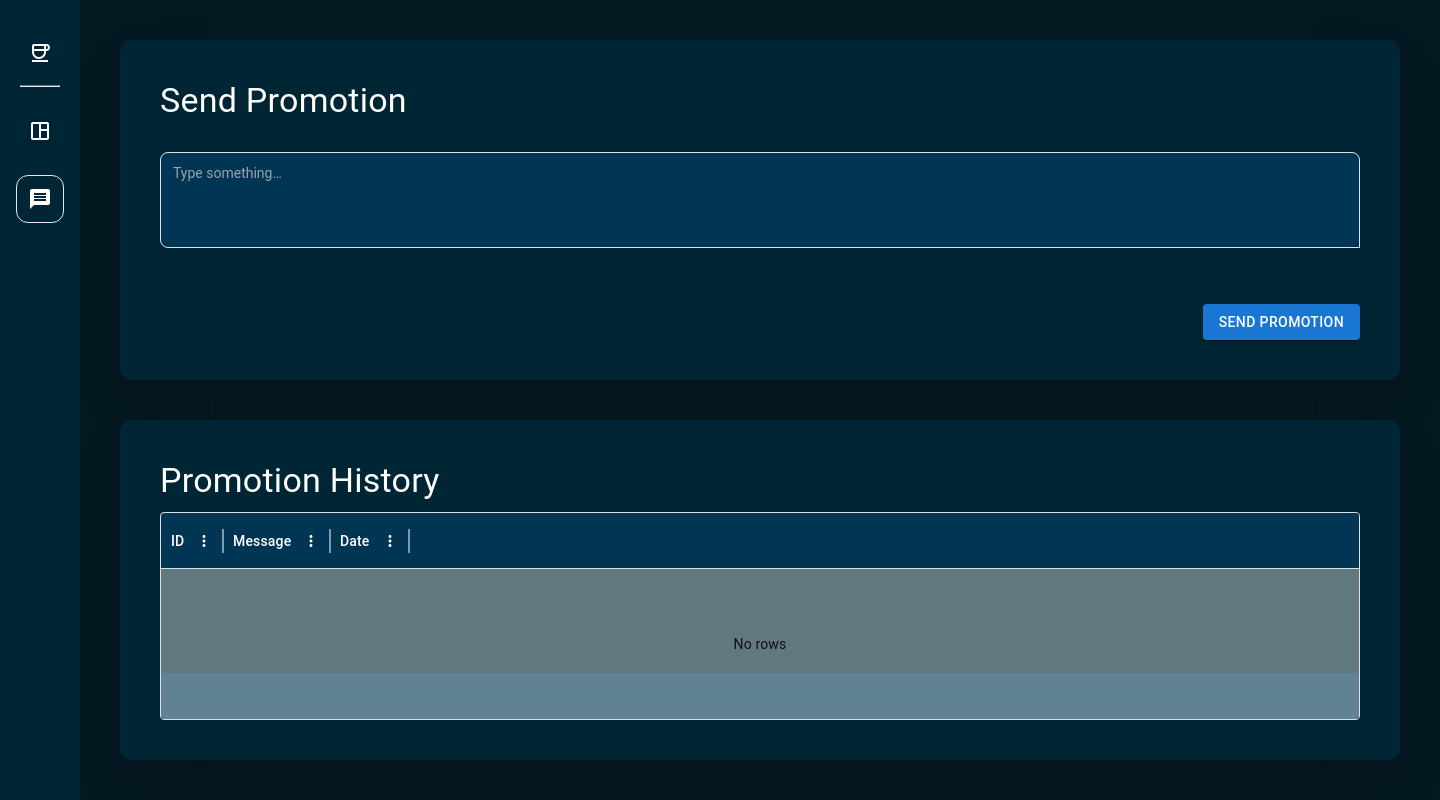
it: Promotion › should add a promotion to the history
Type "Test promotion message" into the text box named "promotion input". click: (760, 200)
box: [160, 152, 1360, 248]
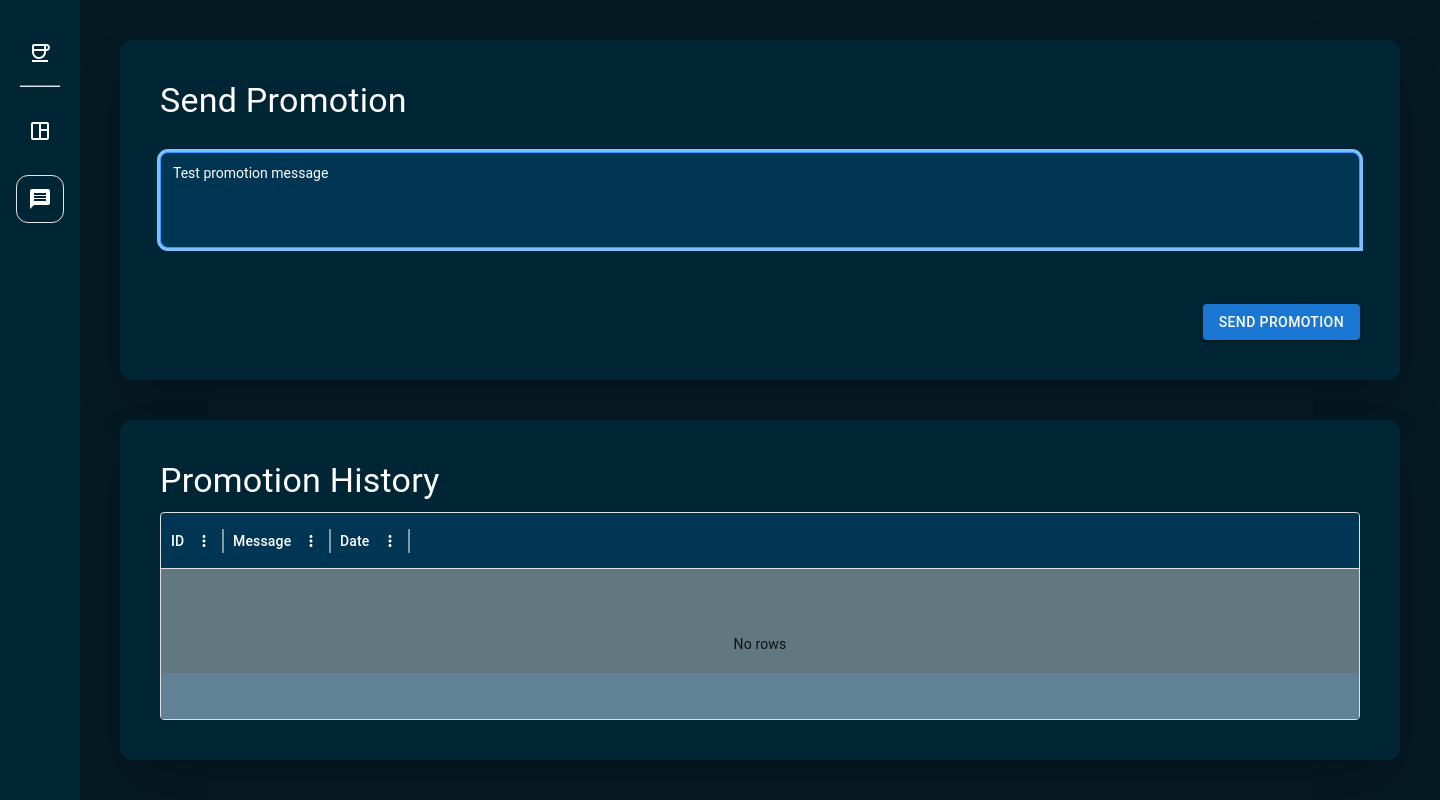
Click the button "Send Promotion". click: (1282, 323)
box: [1203, 304, 1360, 341]
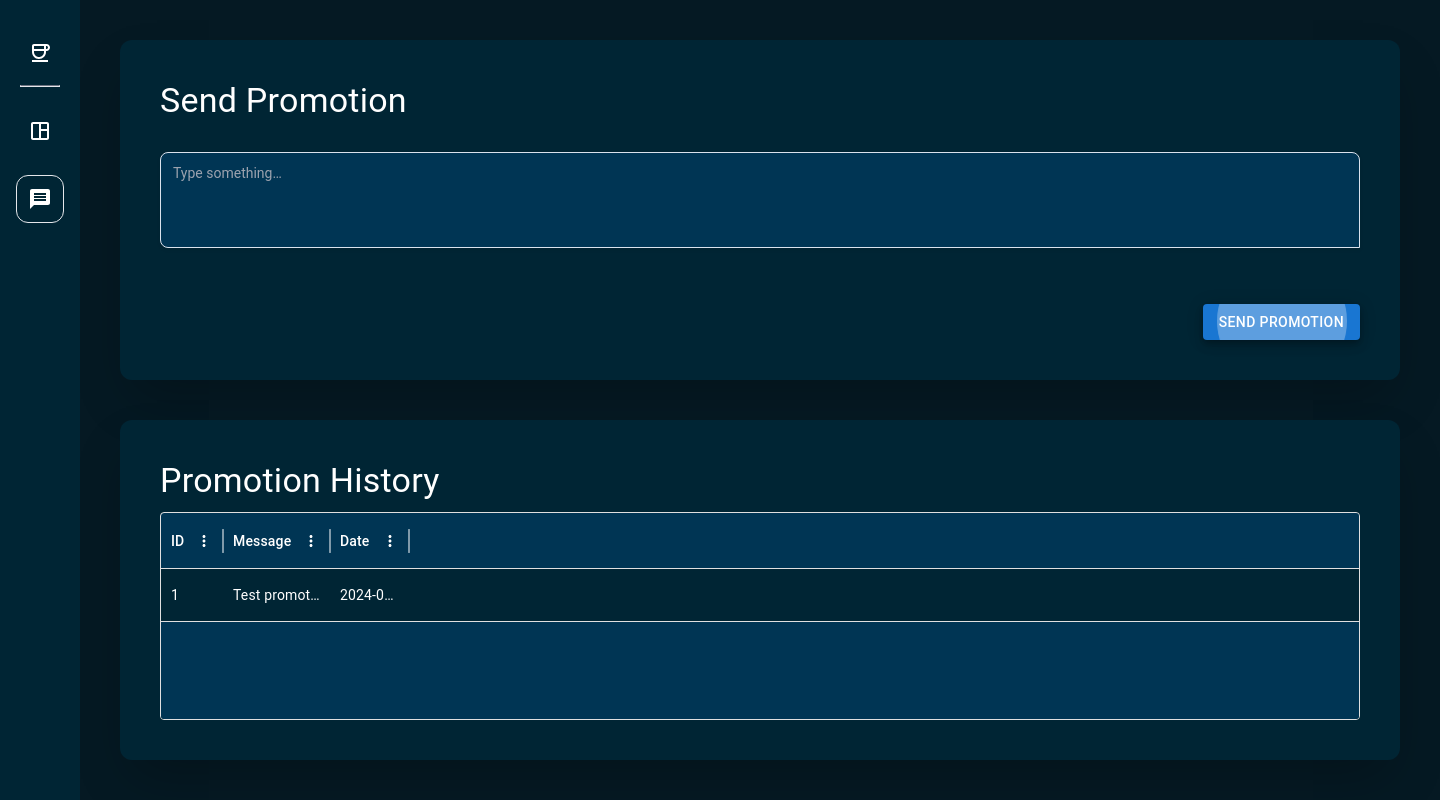
expect the cell "Test promotion message" is shown: met, box [233, 587, 392, 603]
